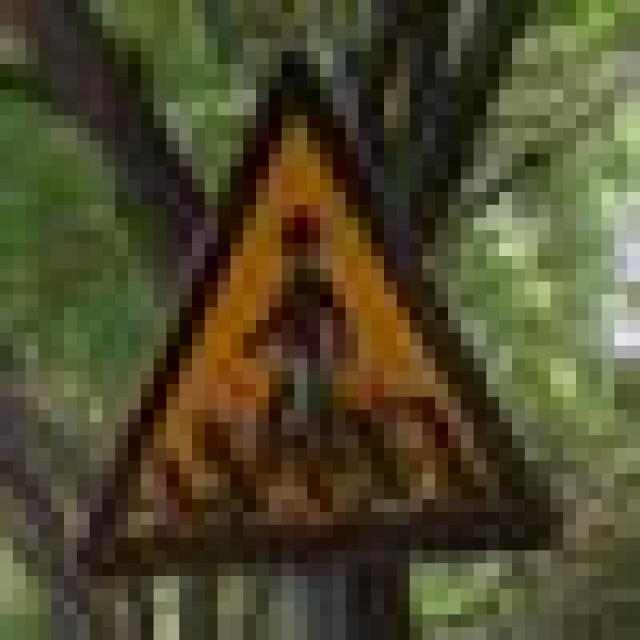pass_either_side: (64, 38, 563, 550)
